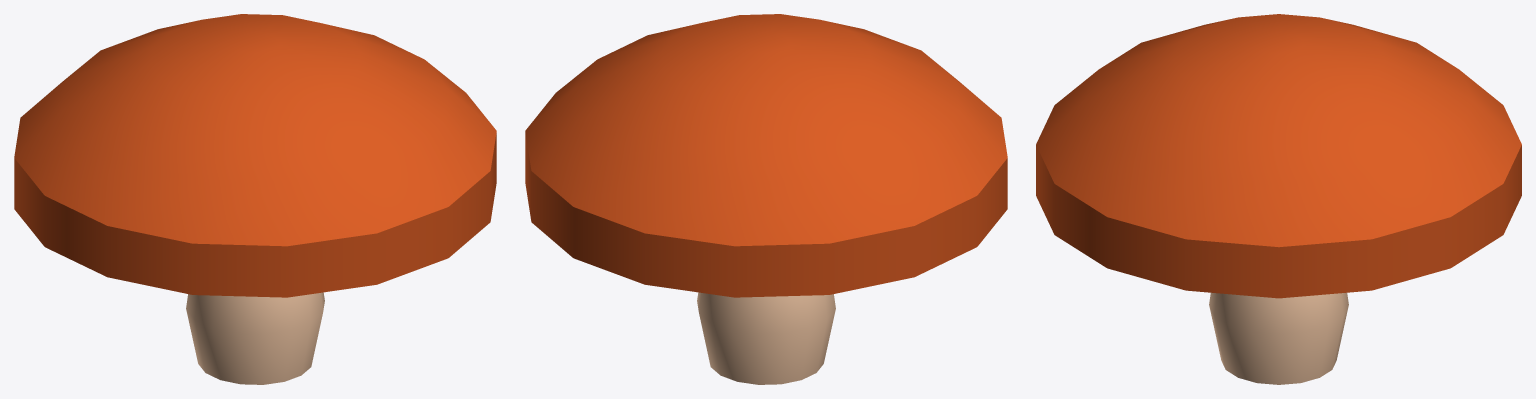
File: jumpmush_orange.fbx
The picture shows the model from 3 angles, left to right: view 1: azimuth 30°, elevation 25°; view 2: azimuth 150°, elevation 25°; view 3: azimuth 270°, elevation 25°; orthographic projection.
Visible parts, largest first — view 1: Cylinder.001; view 2: Cylinder.001; view 3: Cylinder.001.
Boxes of the visible parts, bbox=[...] form: Cylinder.001: bbox=[14, 14, 496, 384]; Cylinder.001: bbox=[525, 14, 1007, 384]; Cylinder.001: bbox=[1036, 14, 1521, 384].
Bounding box in the file's own units: 95.08 × 68.48 × 95.08.
